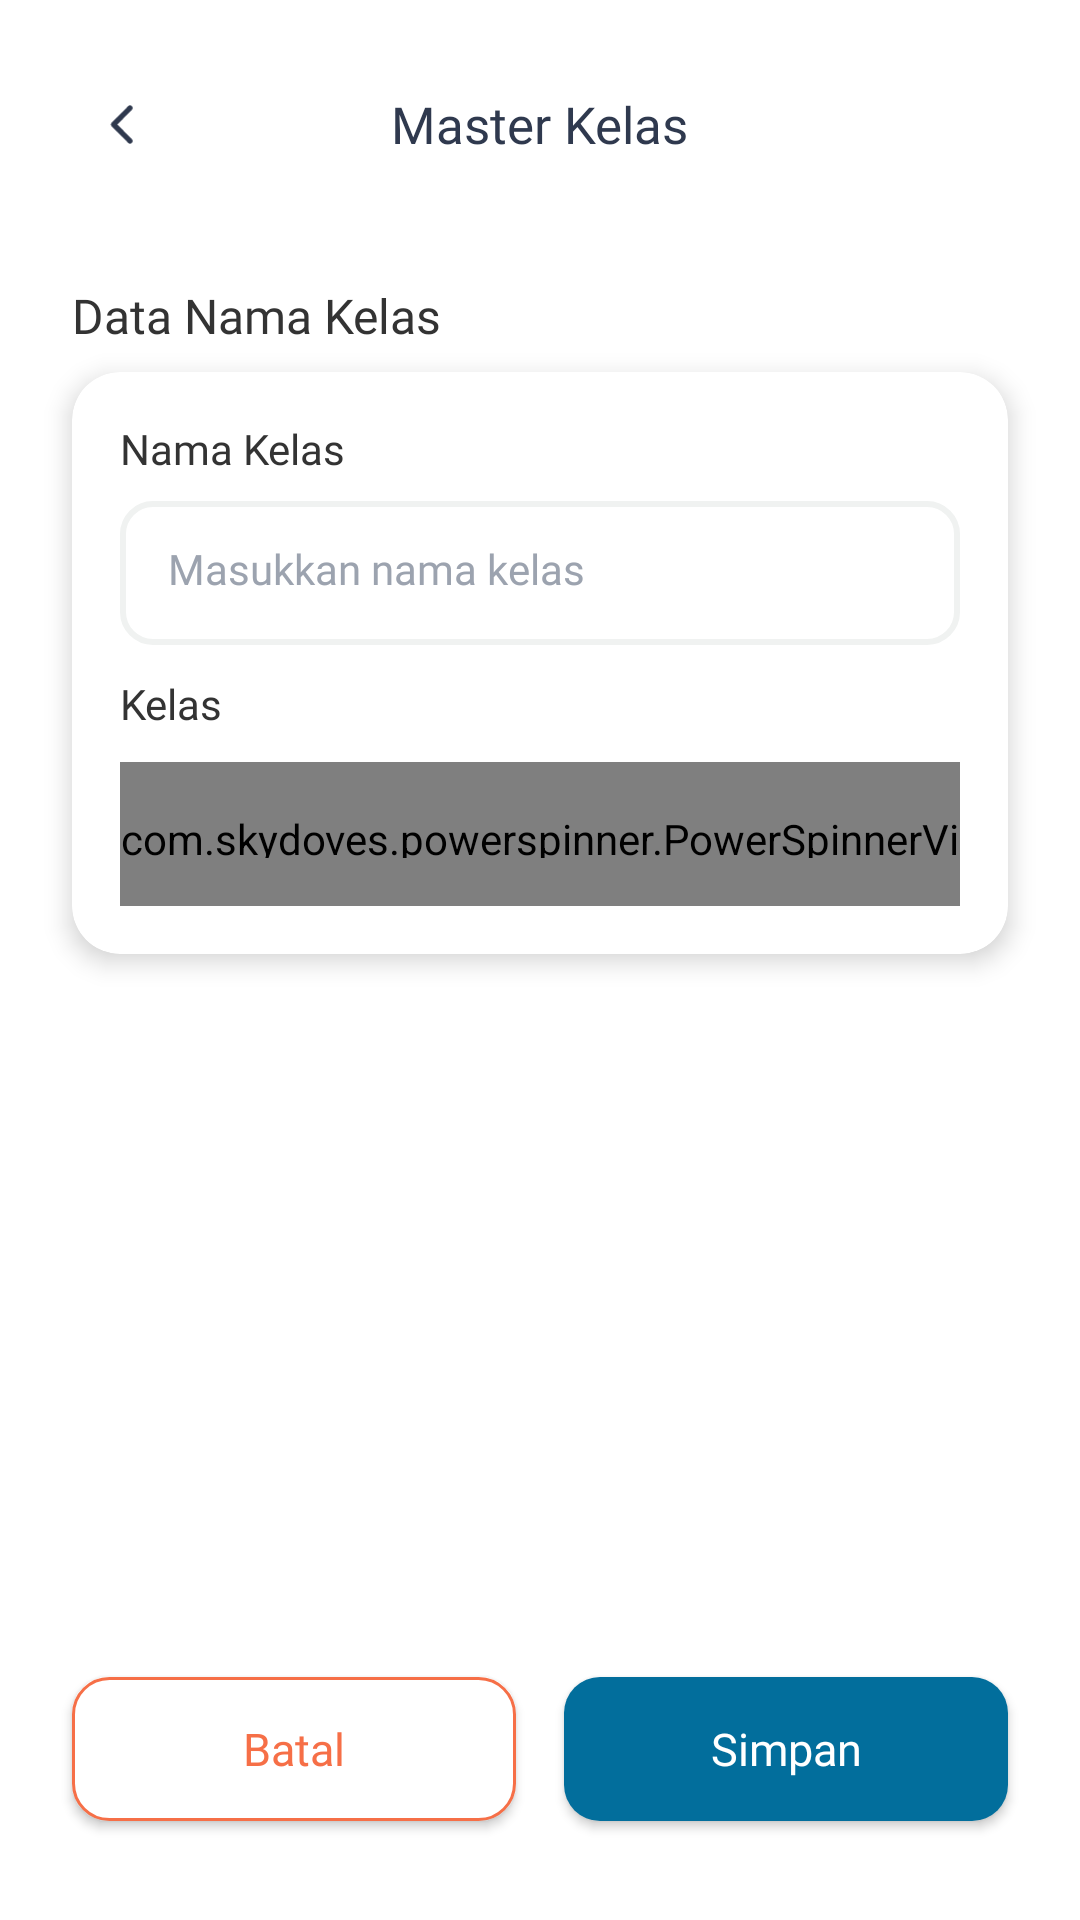

Named icons in this screenshot (1080px x 1920px) and their centers, (x=x, y=y):
chevron back: (x=121, y=124)
